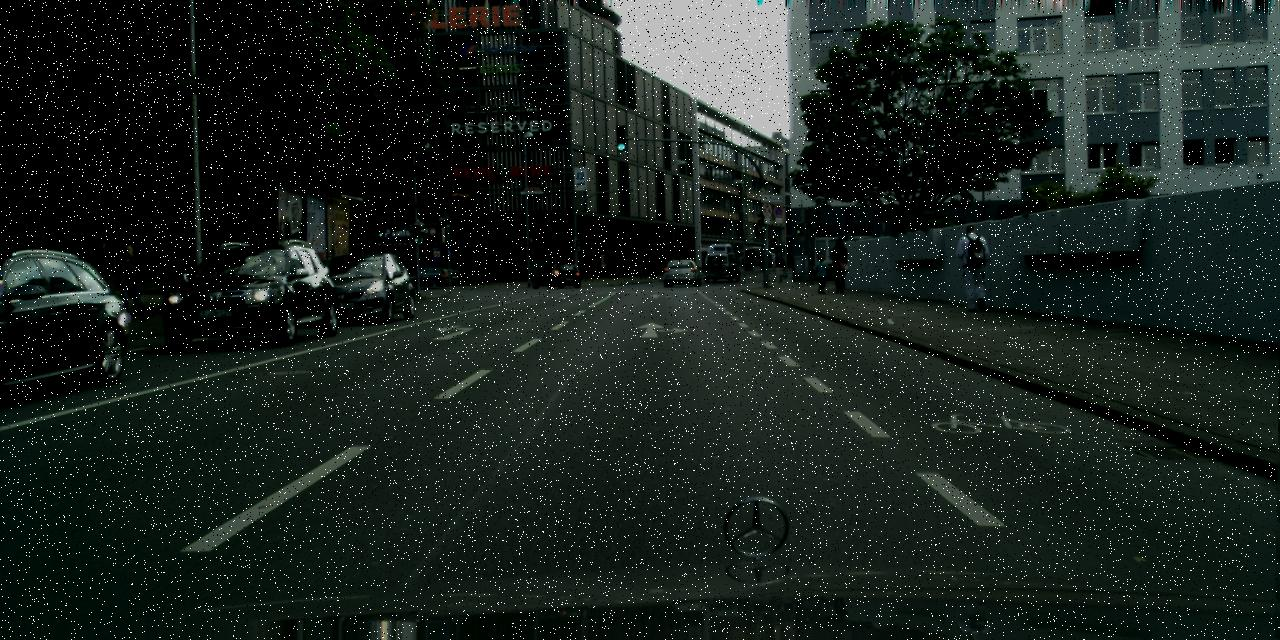ped: (956, 224, 990, 308), (117, 242, 148, 320), (828, 237, 850, 291), (813, 255, 828, 293), (773, 252, 785, 281), (638, 257, 647, 279), (648, 258, 656, 278), (760, 256, 765, 271)
